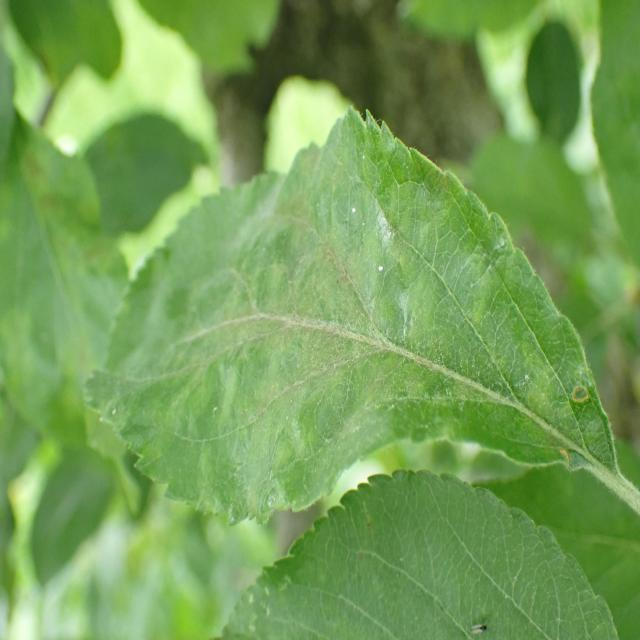scab: (114, 170, 597, 466)
